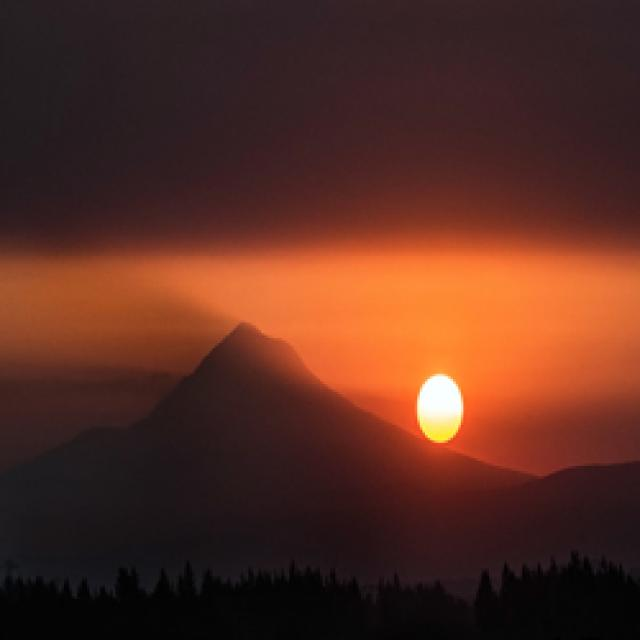light: (414, 374, 465, 446)
